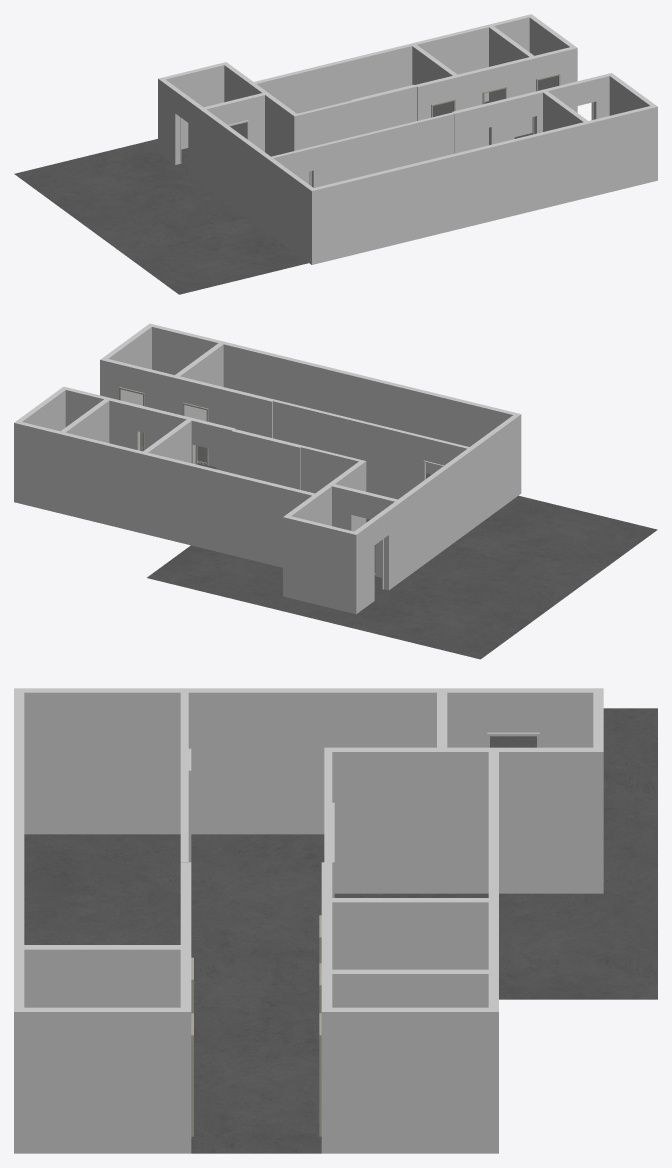
File: migrant 3.fbx
3 views of the same model, one above another, from view 1: azimuth 30°, elevation 25°; view 2: azimuth 150°, elevation 25°; view 3: azimuth 270°, elevation 25° (orthographic). The views are drawn at different scales.
Visible parts, largest first — view 1: Cube.008, Cube.009, Sol, Cube.004, Cube.011, Cube.010; view 2: Cube.009, Cube.008, Sol, Cube.004, Cube.011, Cube.010; view 3: Sol, Cube.009, Cube.008, Cube.004, Cube.011, Cube.010.
Boxes of the visible parts, box(x1,y1,x2,y2) form: Cube.008: box(199, 82, 493, 264); Cube.009: box(367, 14, 657, 220); Sol: box(14, 101, 532, 294); Cube.004: box(158, 62, 252, 181); Cube.011: box(254, 54, 369, 113); Cube.010: box(350, 84, 416, 135); Cube.009: box(14, 323, 325, 545); Cube.008: box(273, 366, 521, 581); Sol: box(142, 432, 657, 659); Cube.004: box(283, 495, 399, 614); Cube.011: box(191, 464, 314, 567); Cube.010: box(232, 429, 302, 489); Sol: box(24, 708, 657, 1153); Cube.009: box(14, 858, 498, 1153); Cube.008: box(14, 688, 498, 893); Cube.004: box(447, 688, 603, 893); Cube.011: box(488, 752, 498, 857); Cube.010: box(324, 802, 334, 897).
Size of the model in its own units: 2022 by 300 by 1235.
Materials: 3 (2 with a texture image).
